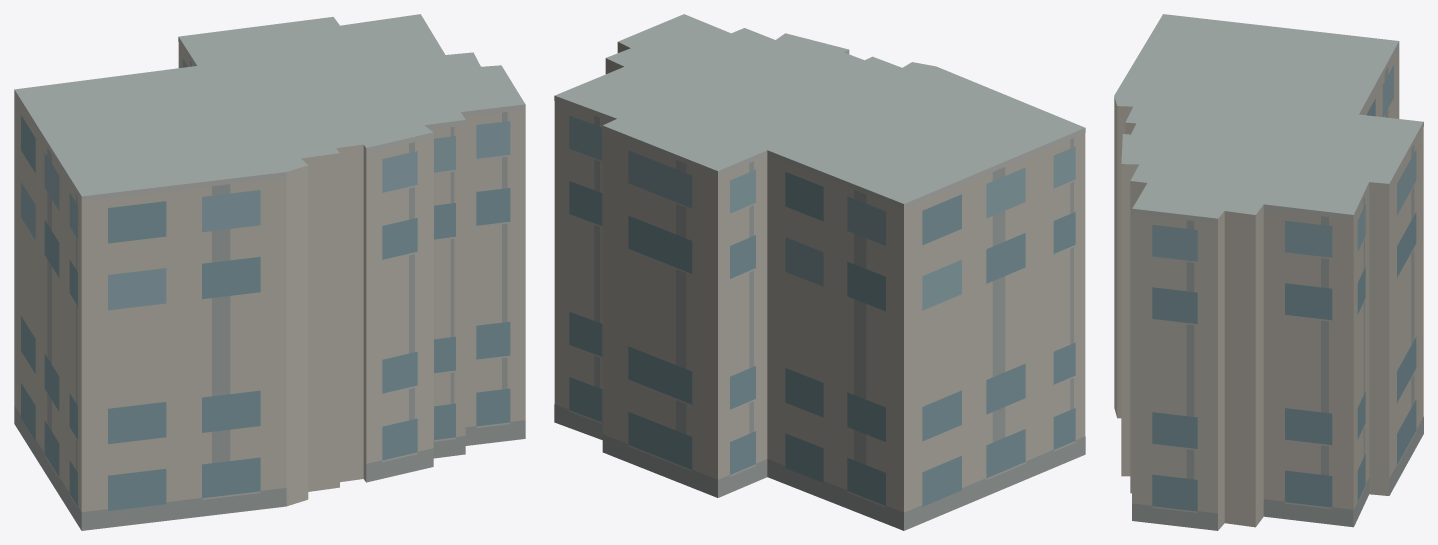
Rendered from survey-upis-33017682.glb.
3 views of the same model, side by side, from view 1: azimuth 30°, elevation 25°; view 2: azimuth 150°, elevation 25°; view 3: azimuth 270°, elevation 25° (orthographic). The views are drawn at different scales.
Visible parts, largest first — view 1: survey-upis-33017682.tmp; view 2: survey-upis-33017682.tmp; view 3: survey-upis-33017682.tmp.
Part boxes in pixels (<box>): survey-upis-33017682.tmp: <box>14,14,525,530</box>; survey-upis-33017682.tmp: <box>554,14,1085,530</box>; survey-upis-33017682.tmp: <box>1114,14,1423,530</box>.
Size of the model in its own units: 21.09 by 15 by 13.48.
